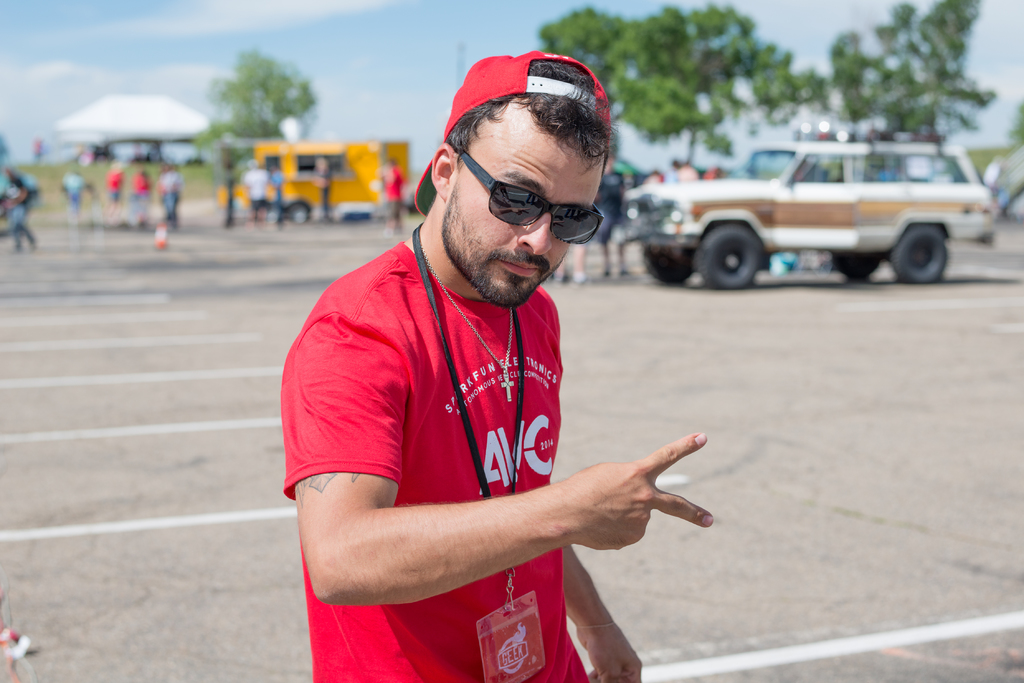Car: (631, 126, 993, 289)
